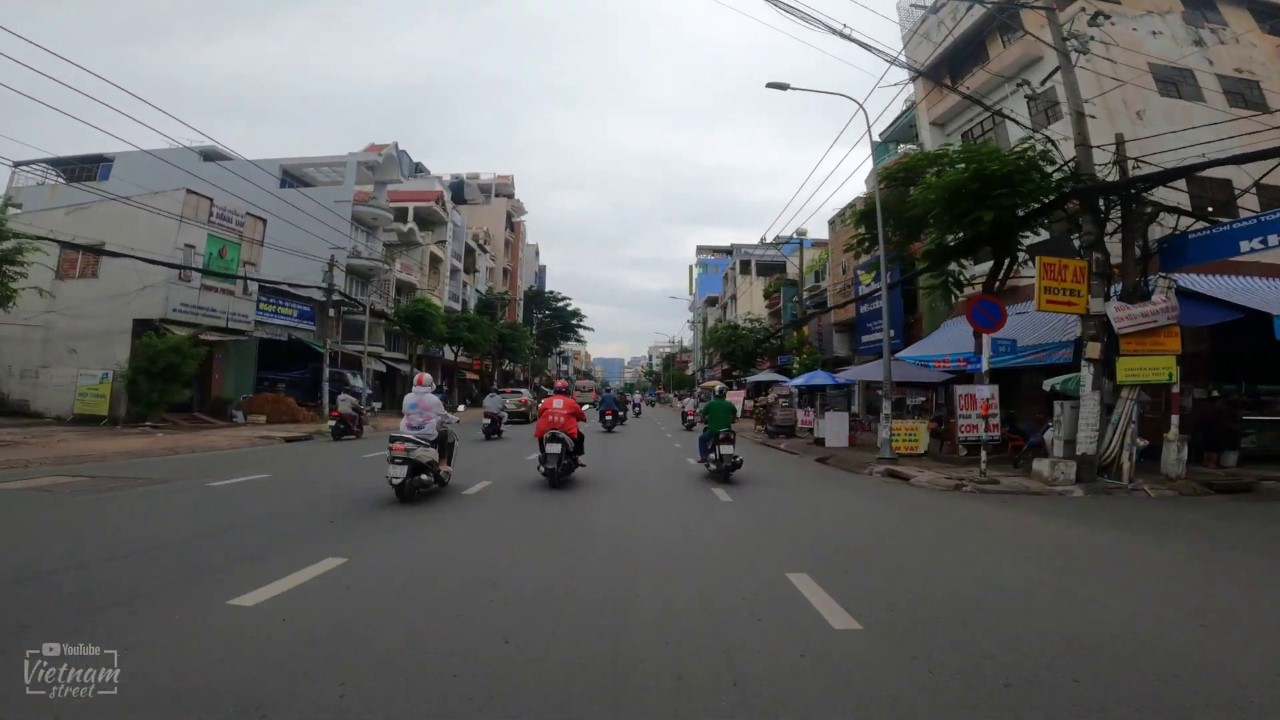cam_do_xe: (965, 294, 1008, 334)
